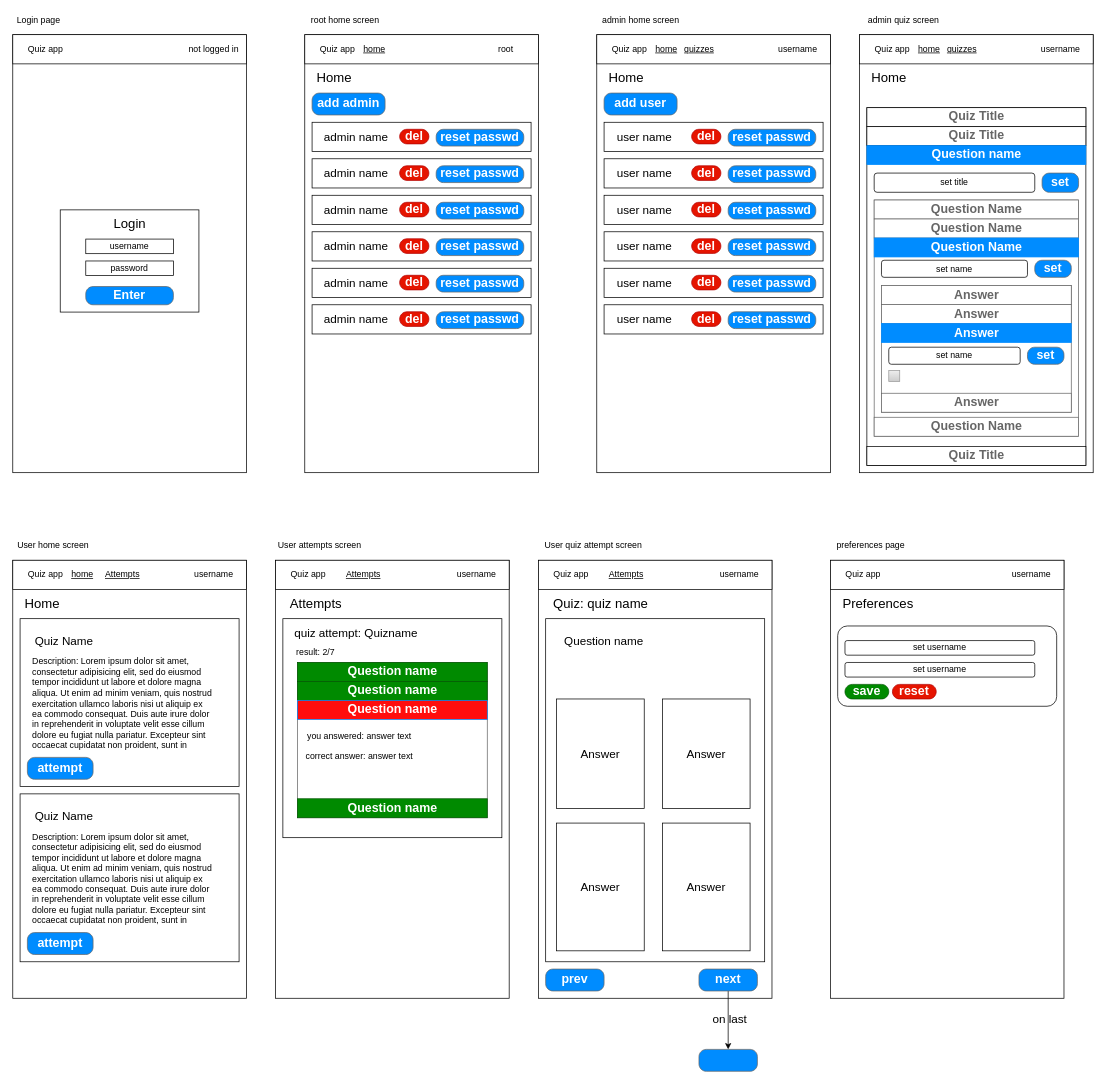
Image size: 1106x1084. Some labels were removed from this diagram. The shapes that lost their labels are listed below. From the top down, each one's centre as x and y in pixels, then its label:
At (894,375): "is correct".
At (727,1060): "finish".
